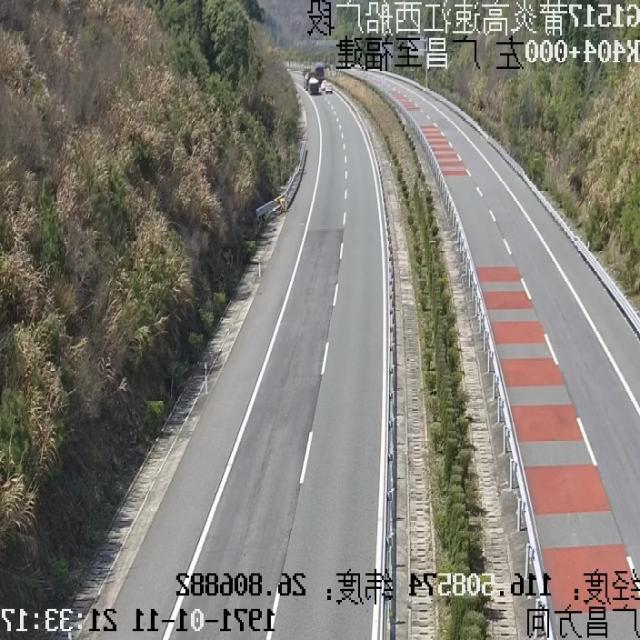point: (279, 57, 334, 106), (356, 62, 398, 114)
